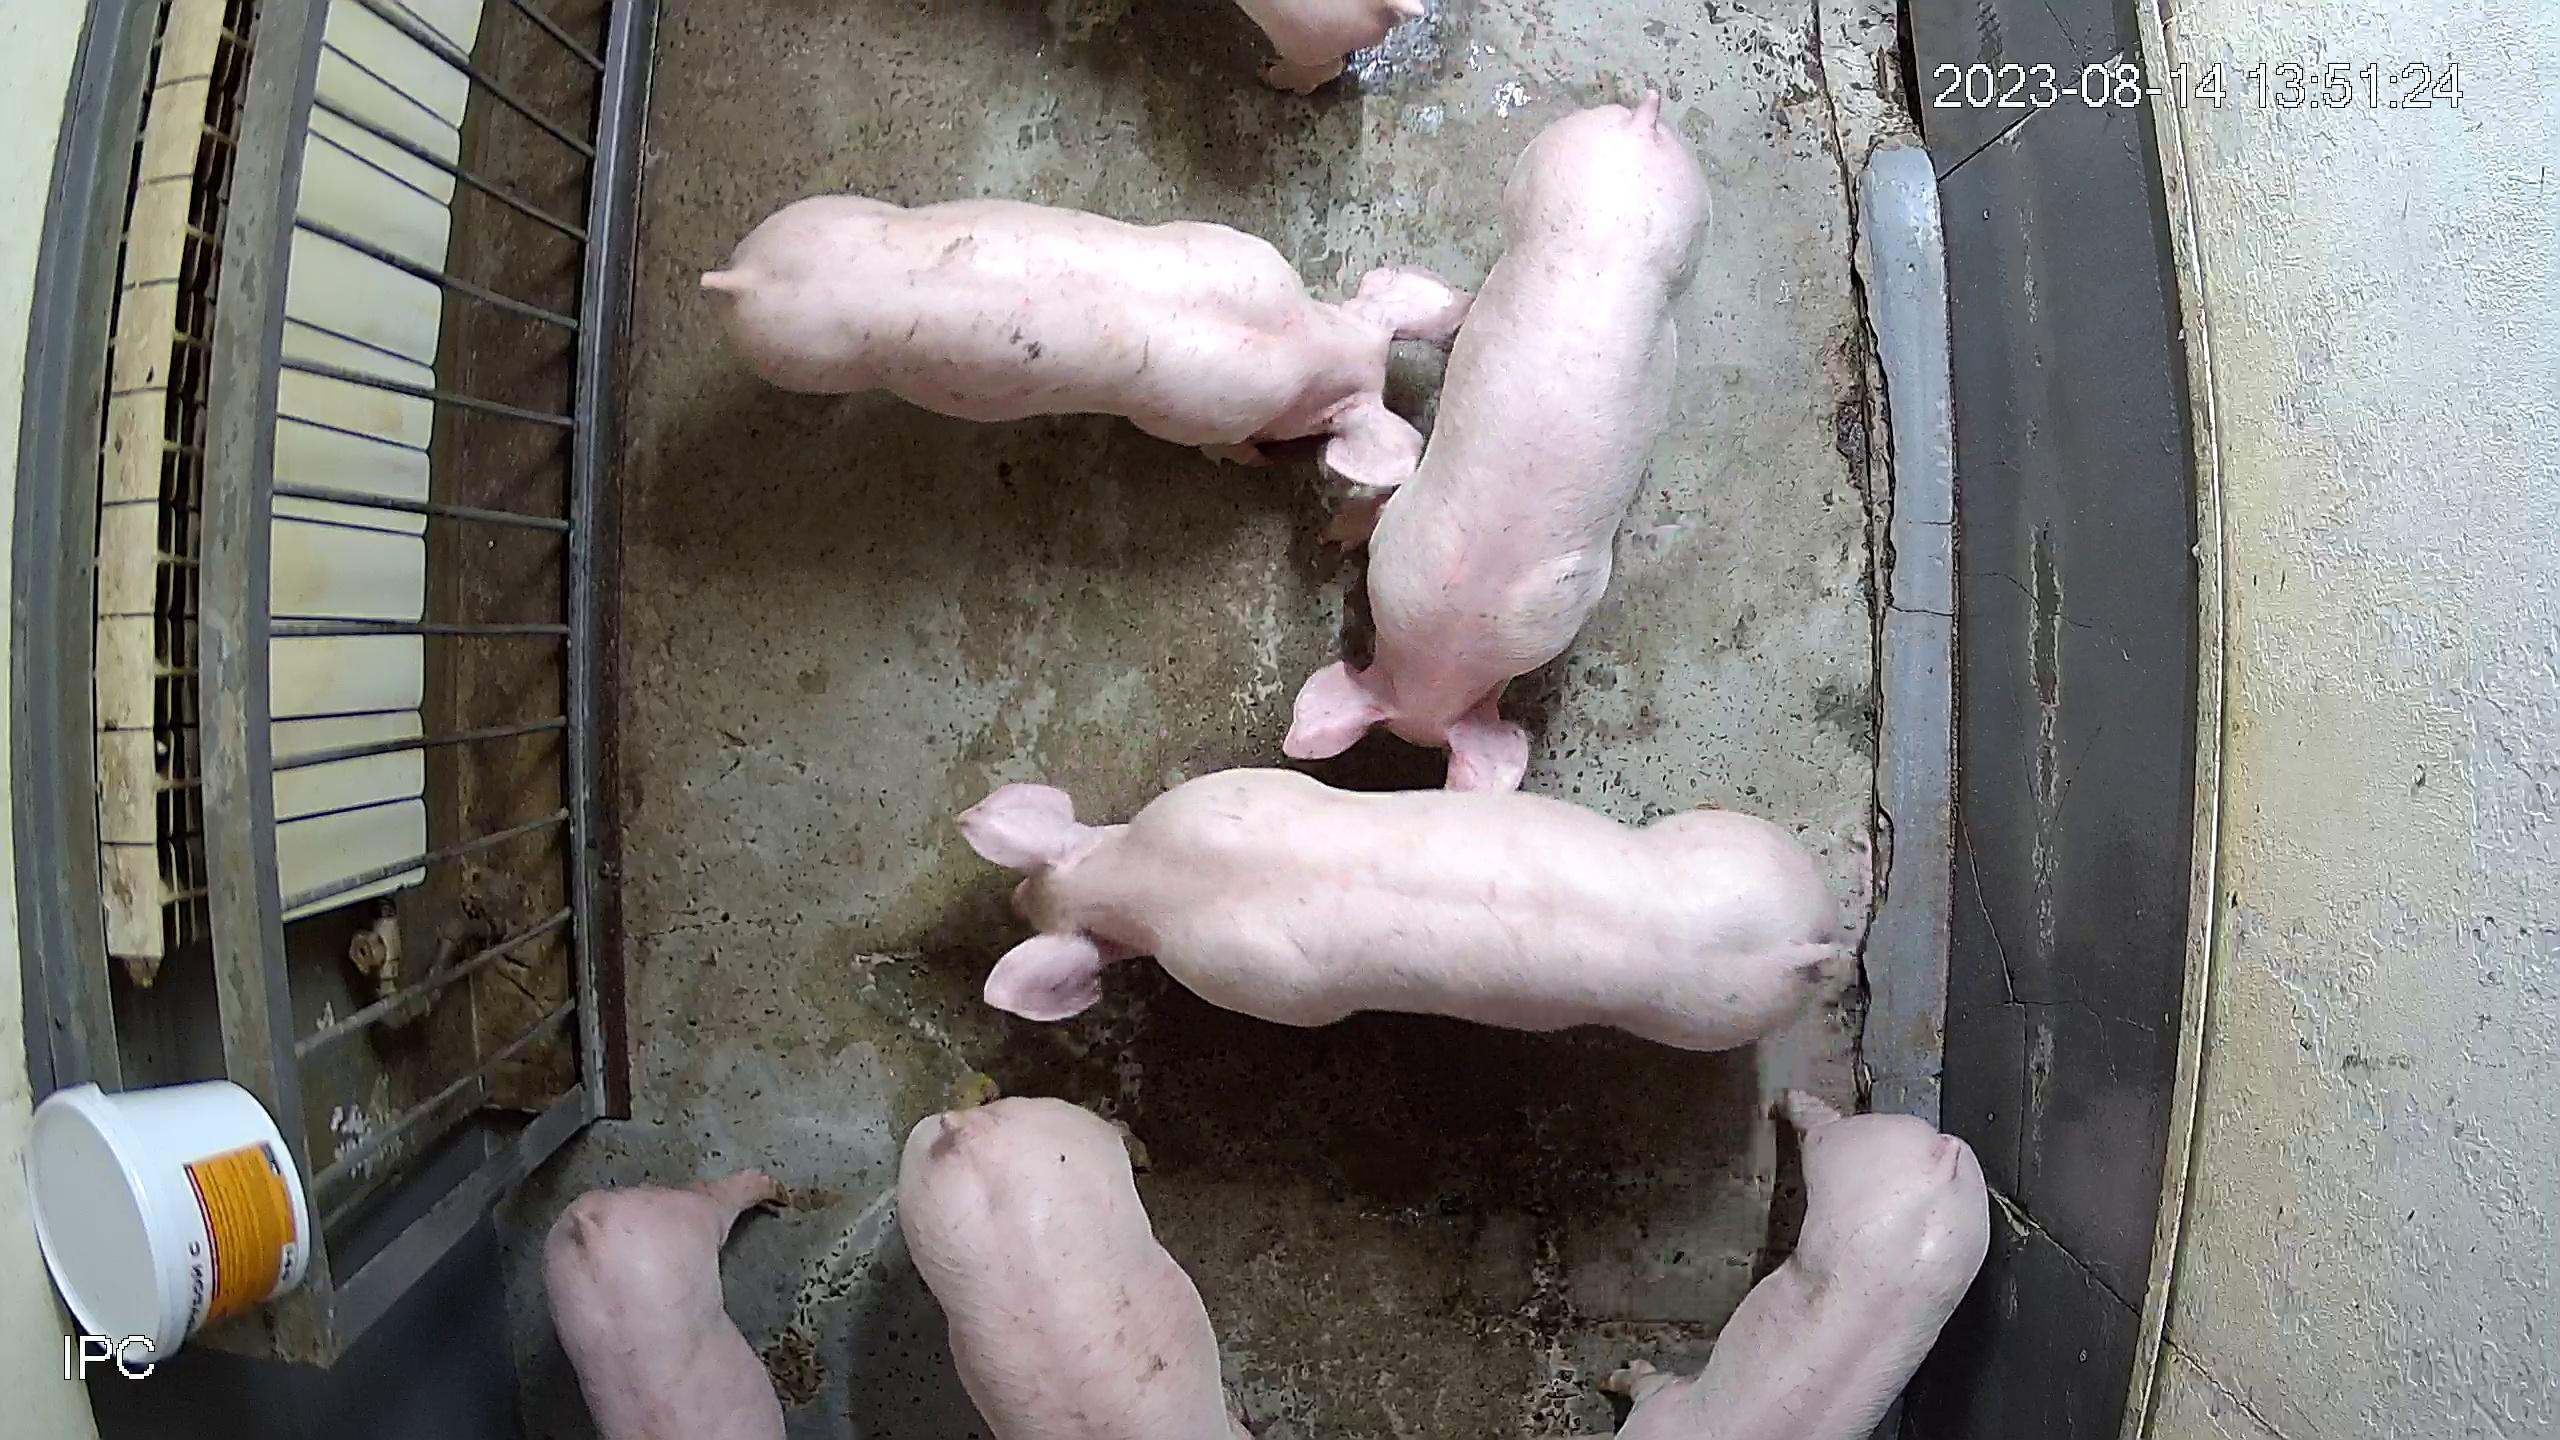Pig: (1284, 88, 1713, 791), (958, 767, 1853, 1050), (702, 192, 1470, 487), (1619, 1090, 1992, 1440), (897, 1097, 1236, 1440), (542, 1169, 784, 1440), (1238, 0, 1426, 90)
